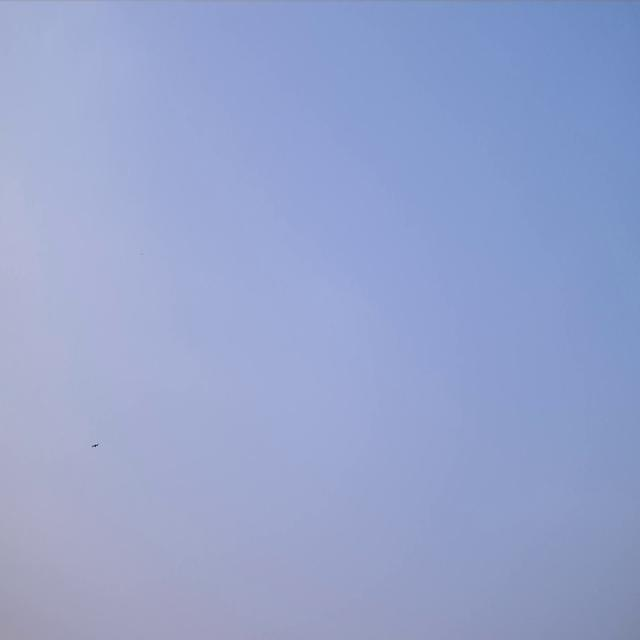UAV: (91, 442, 99, 449)
